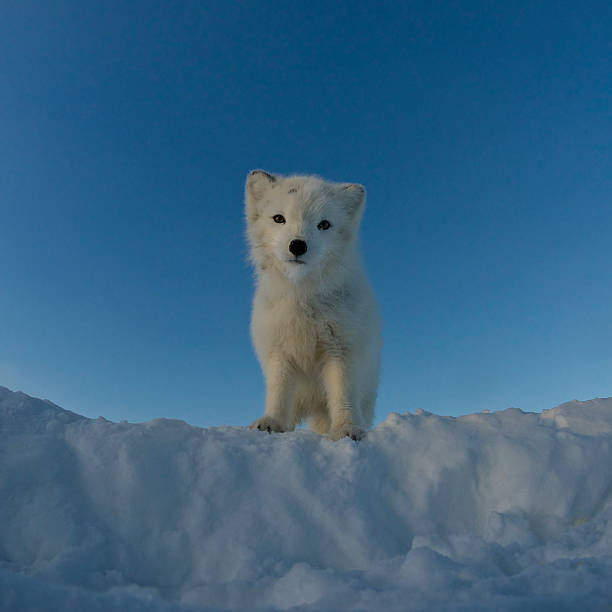arcticfox: (252, 189, 353, 290)
